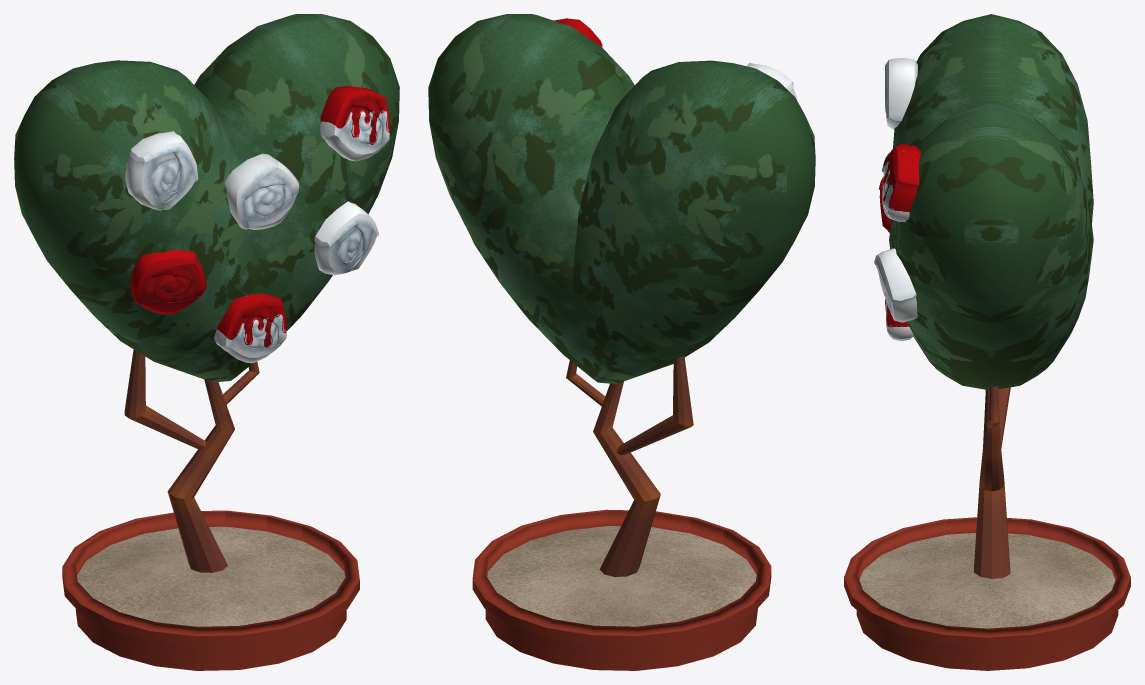
File: AliceObj.fbx
The picture shows the model from 3 angles, left to right: view 1: azimuth 30°, elevation 25°; view 2: azimuth 150°, elevation 25°; view 3: azimuth 270°, elevation 25°; orthographic projection. The views are drawn at different scales.
Visible parts, largest first — view 1: polySurface562; view 2: polySurface562; view 3: polySurface562.
Boxes of the visible parts, x1,y1,x2,y2 form: polySurface562: (14,14,399,670); polySurface562: (428,14,815,670); polySurface562: (844,14,1130,670).
Bounding box in the file's own units: 1.22 × 0.8488 × 1.78.
7 materials, 7 textured.
